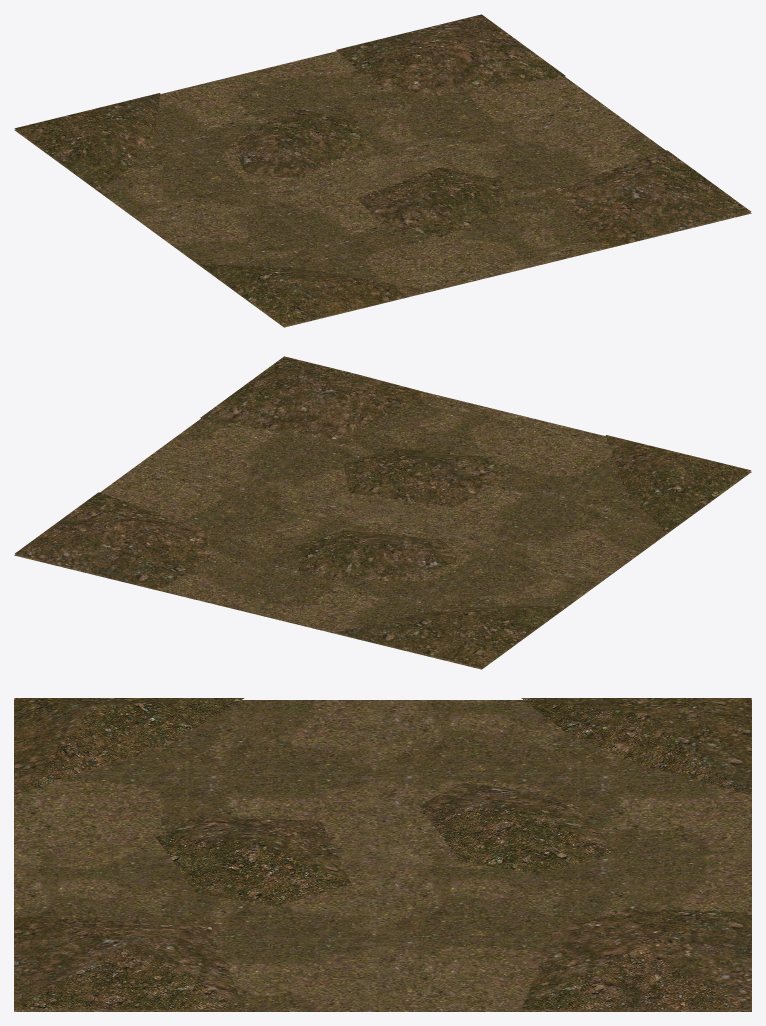
The model's file is Garden_04_Art.fbx.
3 renders of one model, top to bottom at view 1: azimuth 30°, elevation 25°; view 2: azimuth 150°, elevation 25°; view 3: azimuth 270°, elevation 25°, orthographic. The views are drawn at different scales.
Parts seen in each view (by area): view 1: Garden_04_Art; view 2: Garden_04_Art; view 3: Garden_04_Art.
Boxes of the visible parts, x1,y1,x2,y2 form: Garden_04_Art: (14, 14, 751, 327); Garden_04_Art: (14, 356, 751, 669); Garden_04_Art: (14, 698, 751, 1011).
Size of the model in its own units: 1598 by 50.07 by 1598.
